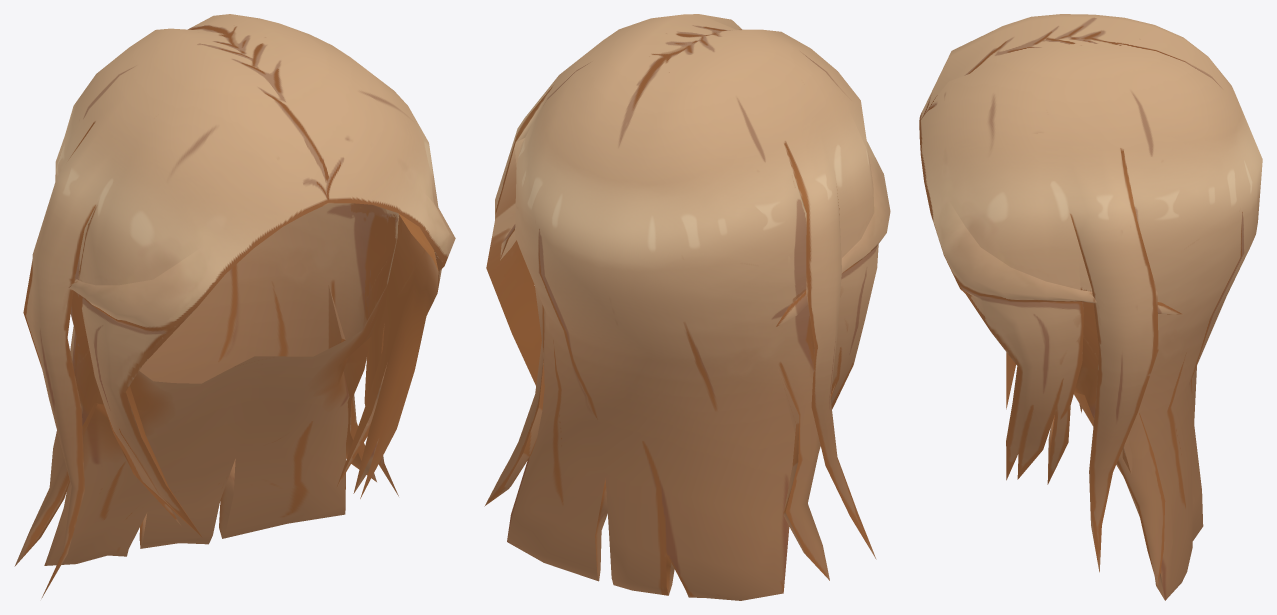
File: hairvariant_001.glb
3 views of the same model, side by side, from view 1: azimuth 30°, elevation 25°; view 2: azimuth 150°, elevation 25°; view 3: azimuth 270°, elevation 25° (orthographic). The views are drawn at different scales.
Visible parts, largest first — view 1: hairvariant.001; view 2: hairvariant.001; view 3: hairvariant.001.
Part boxes in pixels (box(x1,y1,x2,y2)): hairvariant.001: box(14, 14, 455, 598); hairvariant.001: box(484, 14, 890, 600); hairvariant.001: box(919, 14, 1262, 600).
Bounding box in the file's own units: 1.06 × 1.47 × 0.9005.
Materials: 1 (1 with a texture image).
